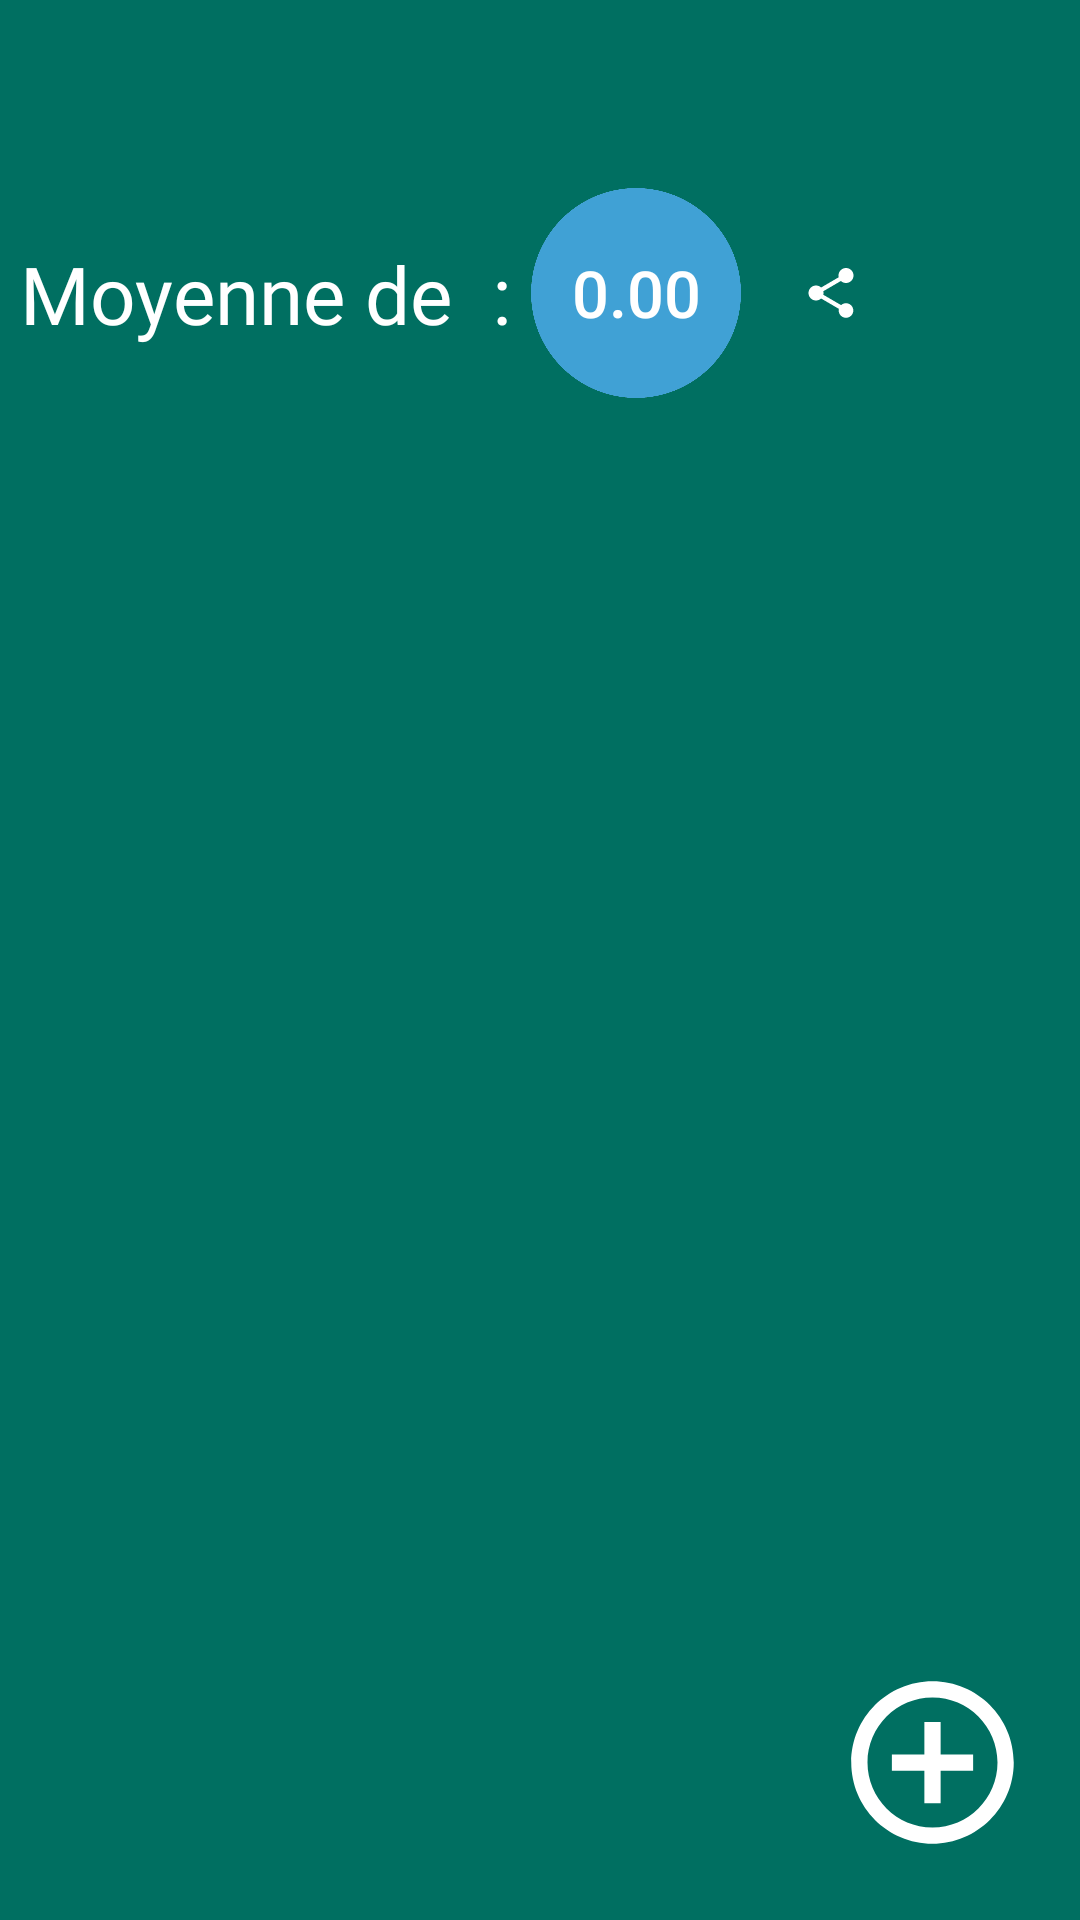

Icons on this 1080 x 1920 Android screen, each with the point to tap as (x=x, y=y):
add circle: (x=932, y=1762)
share: (x=831, y=293)
